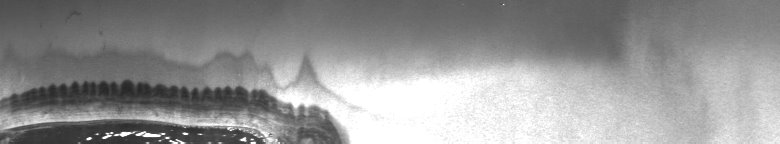ke: (4, 76, 344, 136)
